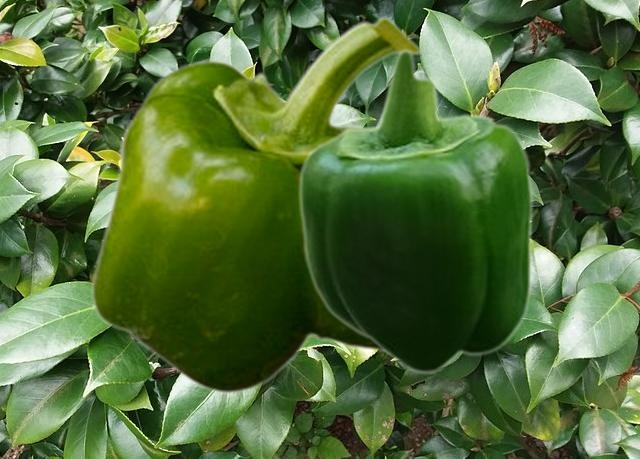bell_pepper: (90, 16, 426, 394), (296, 47, 533, 375)
